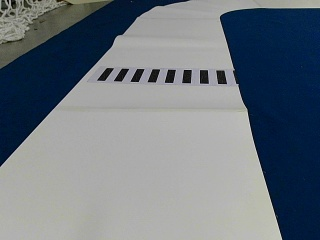crosswalk: (98, 66, 224, 85)
